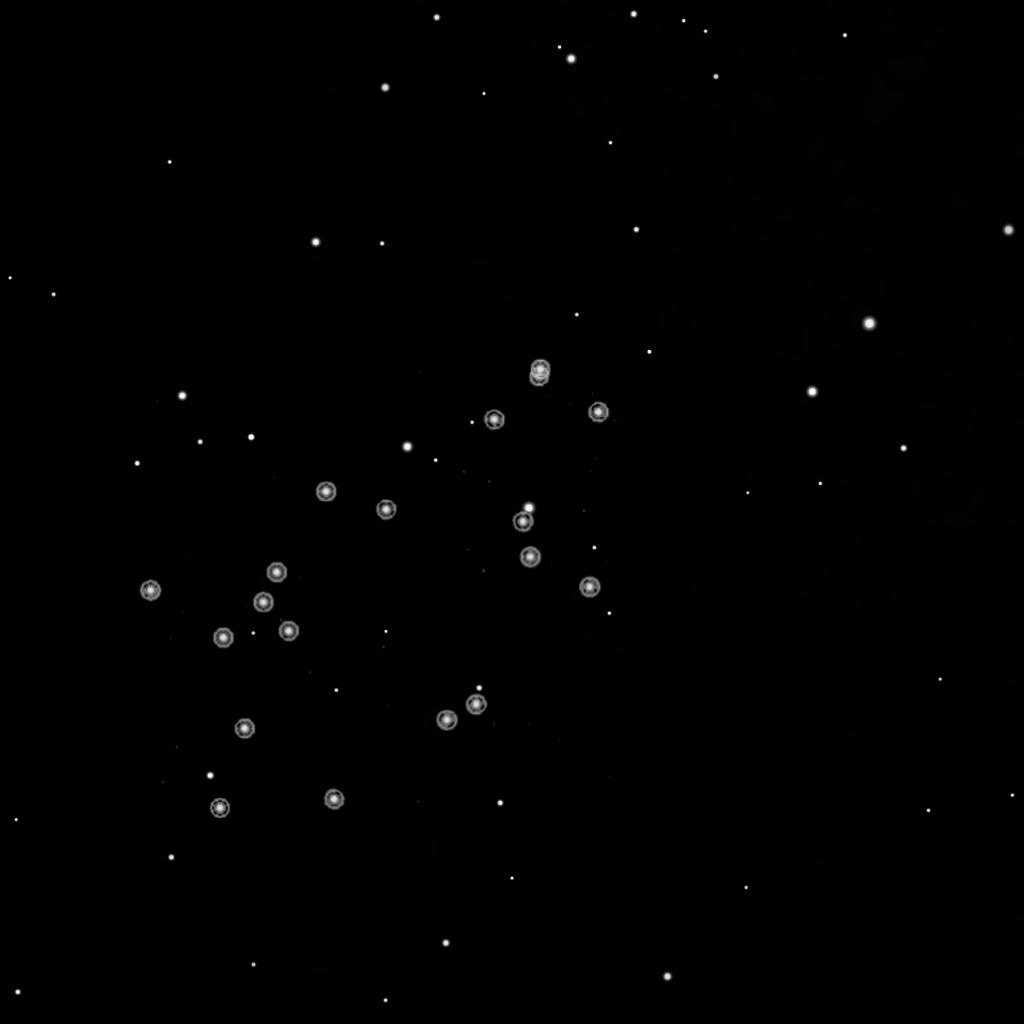canis_major: (208, 478, 406, 661)
